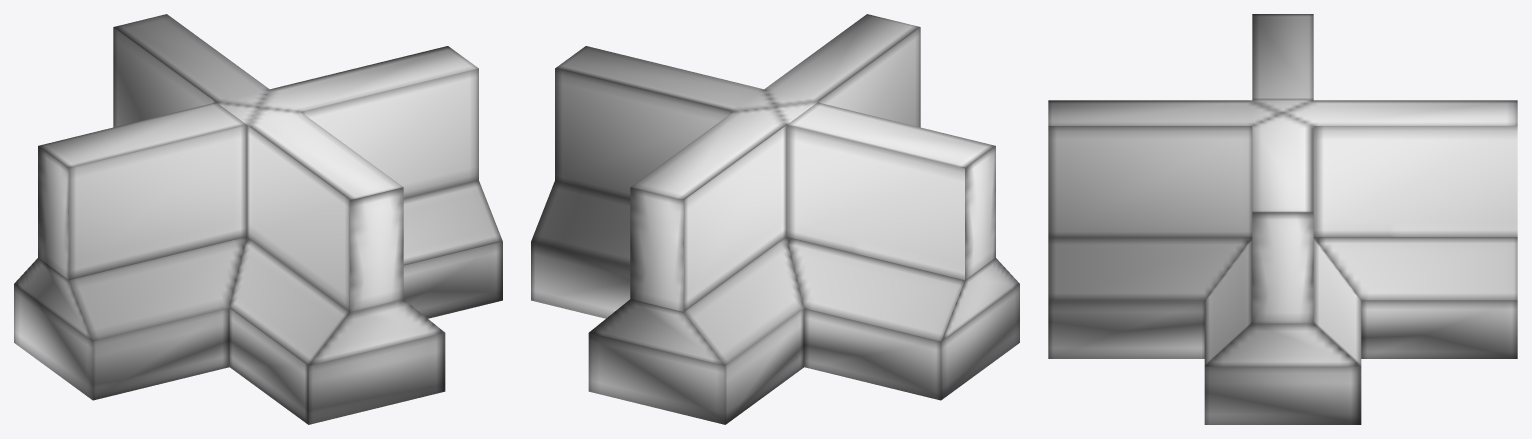
The model's file is Concrete-Barrier-04.fbx.
The picture shows the model from 3 angles, left to right: view 1: azimuth 30°, elevation 25°; view 2: azimuth 150°, elevation 25°; view 3: azimuth 270°, elevation 25°; orthographic projection.
Visible parts, largest first — view 1: Concrete-Barrier-04; view 2: Concrete-Barrier-04; view 3: Concrete-Barrier-04.
Part boxes in pixels (x1=…): Concrete-Barrier-04: x1=14, y1=14, x2=502, y2=424; Concrete-Barrier-04: x1=531, y1=14, x2=1019, y2=424; Concrete-Barrier-04: x1=1048, y1=14, x2=1517, y2=424.
Bounding box in the file's own units: 1 × 0.5 × 1.
